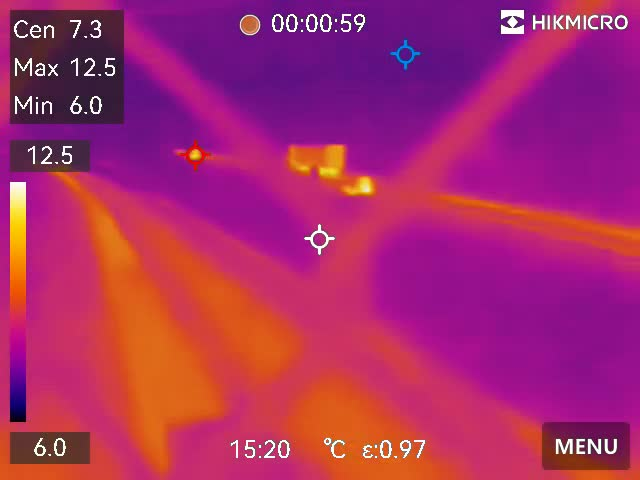heavyTruck: (286, 141, 347, 177)
